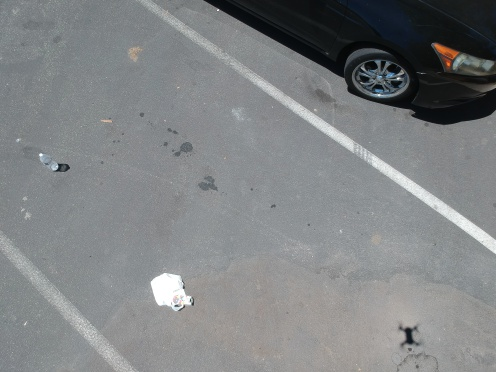bottle: (33, 149, 64, 177)
plastic bag: (139, 268, 197, 313)
